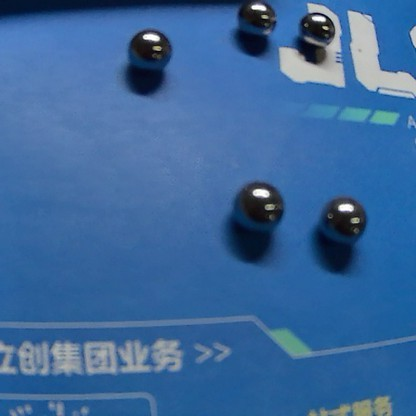ironball: (317, 188, 386, 257), (287, 4, 347, 58), (231, 175, 288, 230), (119, 19, 169, 79), (233, 5, 279, 43)
